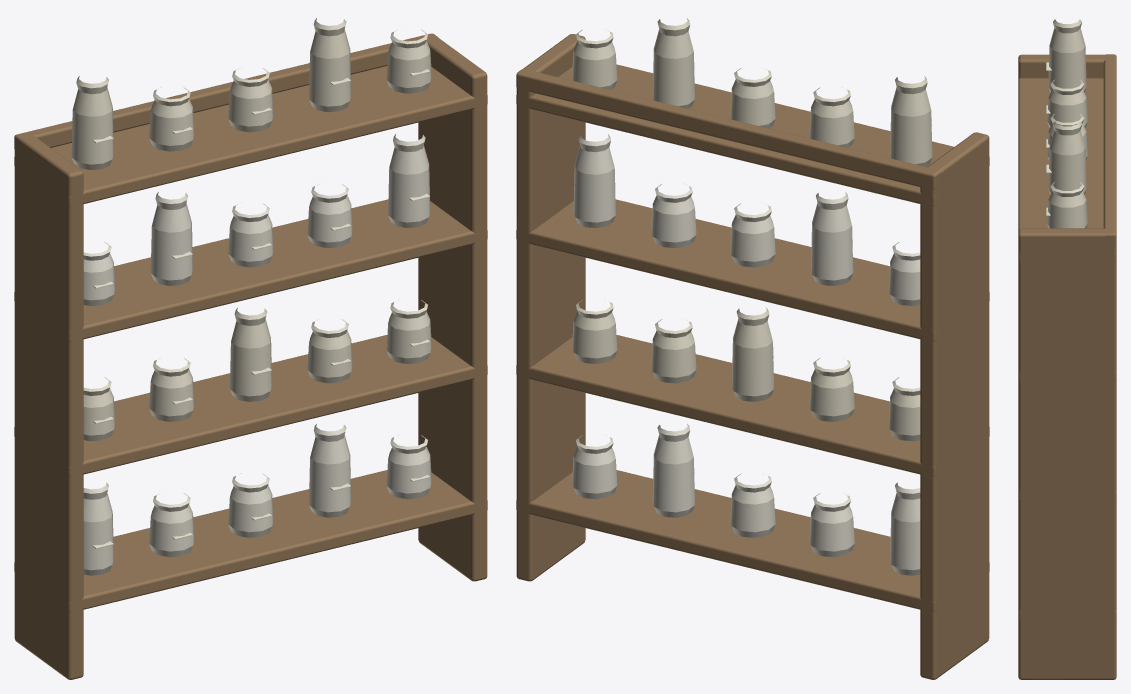
File: apothecary-jar-shel.glb
3 views of the same model, side by side, from view 1: azimuth 30°, elevation 25°; view 2: azimuth 150°, elevation 25°; view 3: azimuth 270°, elevation 25° (orthographic). The views are drawn at different scales.
Parts seen in each view (by area): view 1: apothecary-jar-shelf; view 2: apothecary-jar-shelf; view 3: apothecary-jar-shelf.
Boxes of the visible parts, x1=… form: apothecary-jar-shelf: x1=14, y1=18, x2=487, y2=679; apothecary-jar-shelf: x1=516, y1=18, x2=989, y2=679; apothecary-jar-shelf: x1=1018, y1=19, x2=1116, y2=679.
Bounding box in the file's own units: 1.3 × 1.69 × 0.2999.
